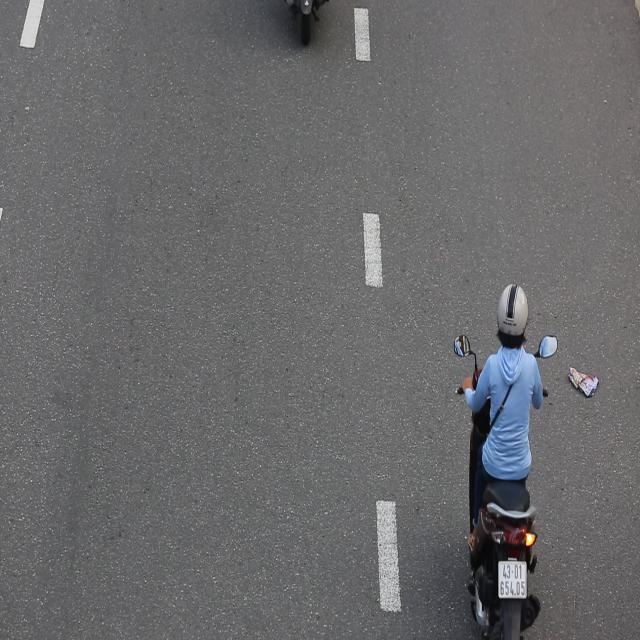motorbike: (451, 272, 559, 640)
